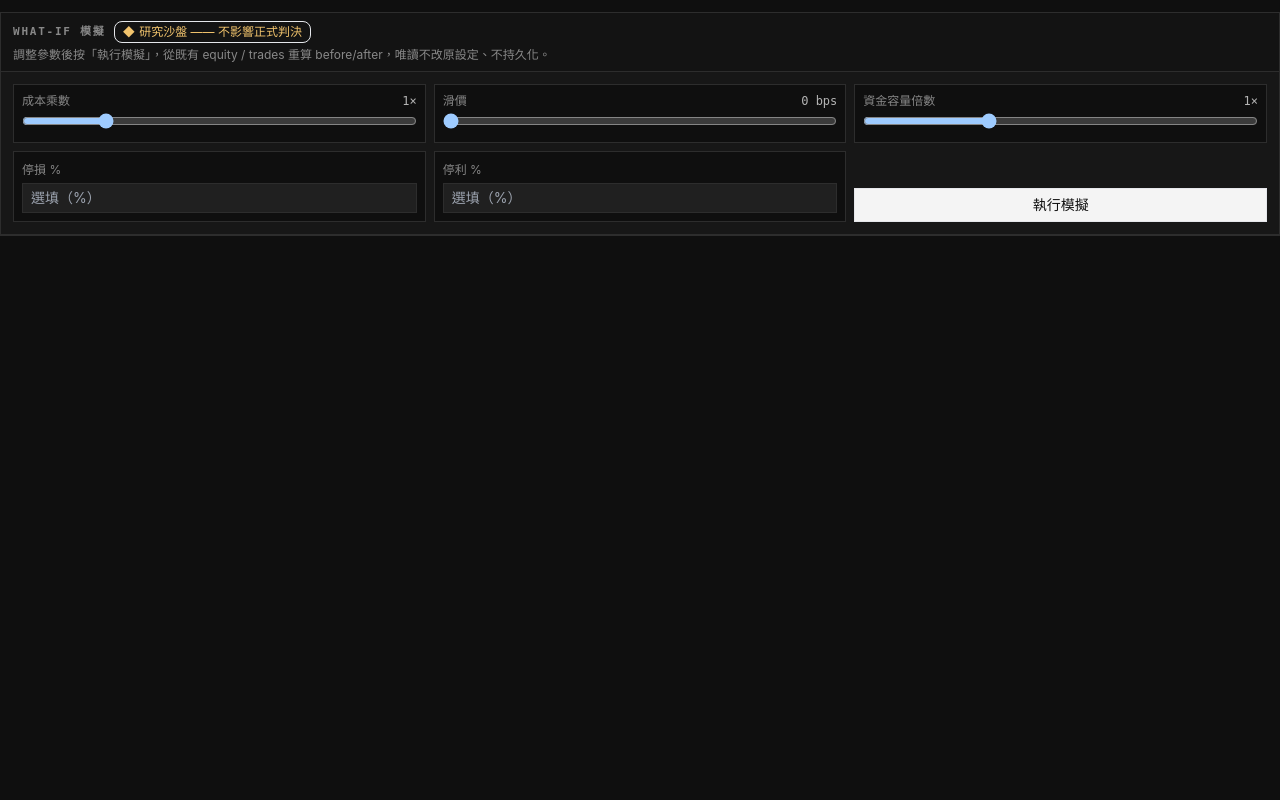
Test: SimulationPanel › disables the fork button without a live evaluation id (fixture / missing parent)
Click the button with test id "sim-run" at (1061, 205), box [854,188,1267,222]
(page scrolled)
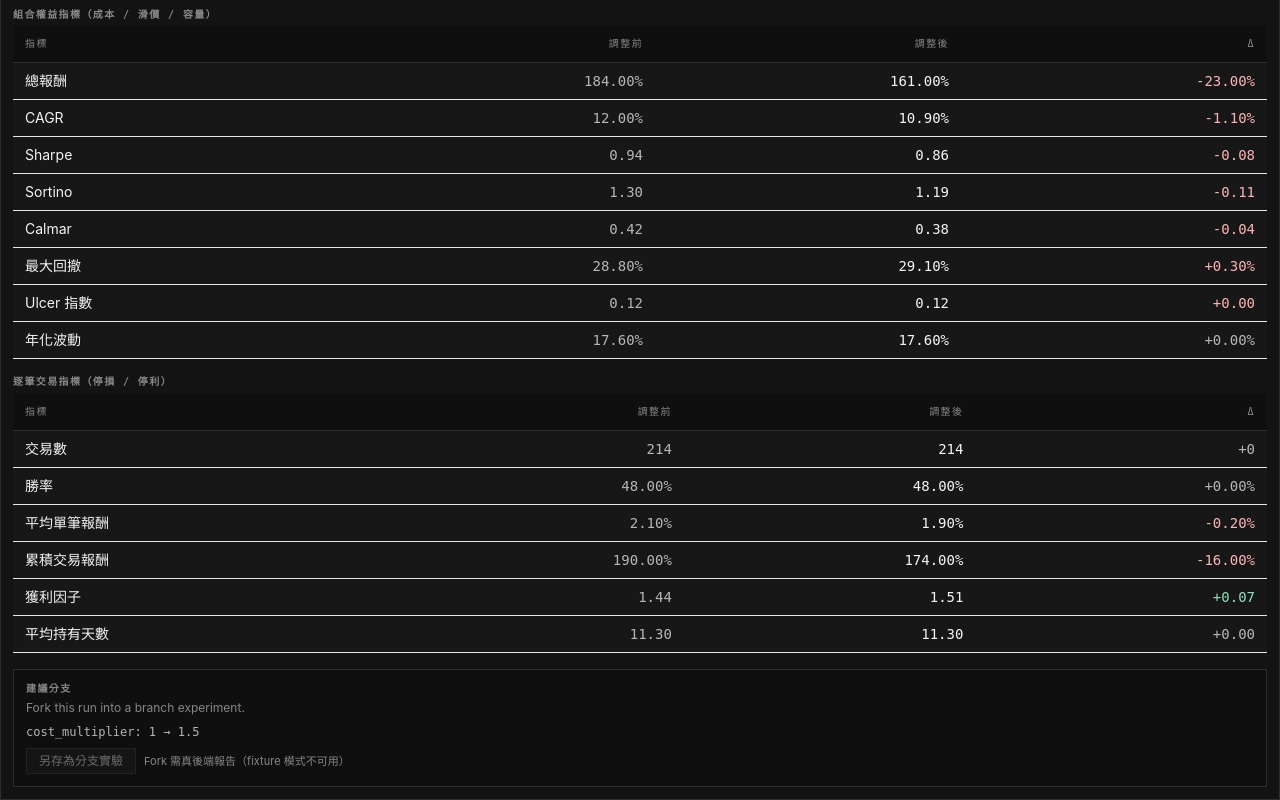
Expected: the element with test id "sim-branch-suggestion" is shown, [13,669,1267,787]
Expected: the button with test id "sim-fork" is disabled, [26,748,136,774]
